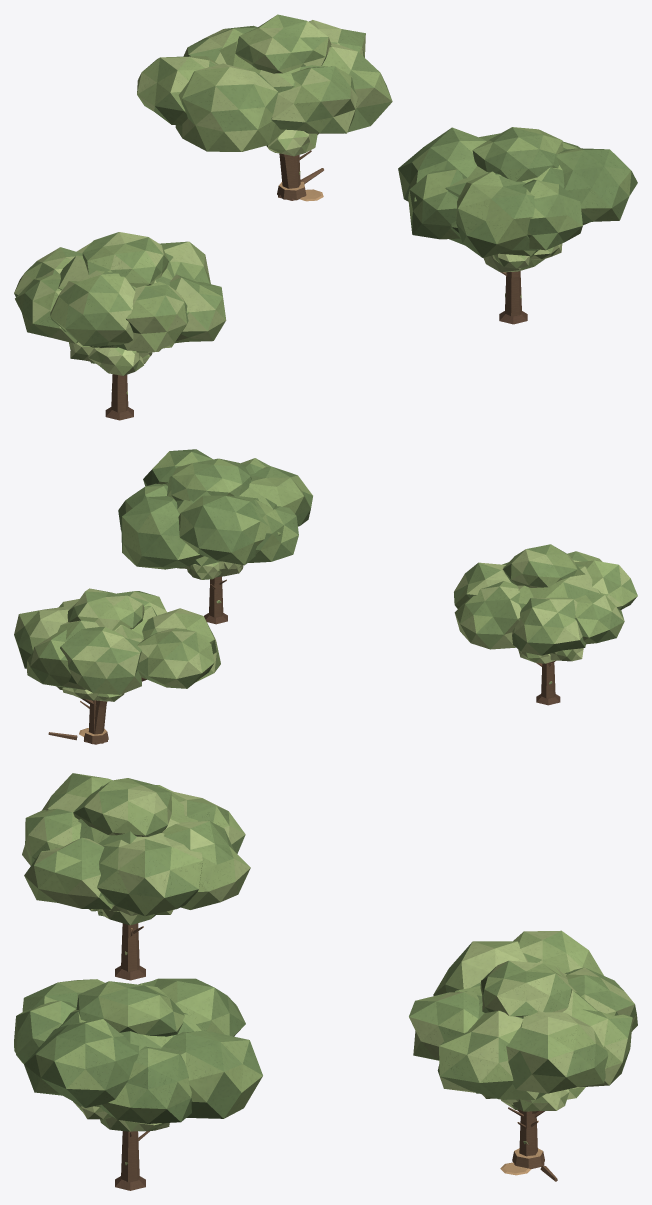
File: trees.glb
The picture shows the model from 3 angles, top to bottom: view 1: azimuth 30°, elevation 25°; view 2: azimuth 150°, elevation 25°; view 3: azimuth 270°, elevation 25°; orthographic projection. The views are drawn at different scales.
Visible parts, largest first — view 1: oak__yard_2026_full__seg5, oak__garden_2026_full__seg5, oak__square_2026_full__seg5, oak__yard_2026_full__seg6, oak__garden_2026_full__seg7, oak__yard_2026_full__seg8, oak__garden_2026_full__seg8, oak__square_2026_full__seg6, oak__square_2026_full__seg8, oak__yard_2026_full__seg4, oak__garden_2026_full__seg6, oak__garden_2026_full__seg4 (+16 smaller); view 2: oak__garden_2026_full__seg3, oak__yard_2026_full__seg3, oak__garden_2026_full__seg2, oak__yard_2026_full__seg4, oak__square_2026_full__seg3, oak__square_2026_full__seg2, oak__garden_2026_full__seg8, oak__square_2026_full__seg8, oak__yard_2026_full__seg8, oak__garden_2026_full__seg5, oak__garden_2026_full__seg4, oak__square_2026_full__seg4 (+15 smaller); view 3: oak__garden_2026_full__seg7, oak__square_2026_full__seg1, oak__yard_2026_full__seg1, oak__garden_2026_full__seg2, oak__yard_2026_full__seg7, oak__garden_2026_full__seg1, oak__garden_2026_full__seg8, oak__square_2026_full__seg8, oak__square_2026_full__seg7, oak__yard_2026_full__seg8, oak__square_2026_full__seg2, oak__yard_2026_full__seg6 (+18 smaller).
Part boxes in pixels (x1=…): oak__yard_2026_full__seg5: x1=175, y1=63, x2=285, y2=151; oak__garden_2026_full__seg5: x1=456, y1=171, x2=539, y2=257; oak__square_2026_full__seg5: x1=50, y1=275, x2=135, y2=345; oak__yard_2026_full__seg6: x1=271, y1=66, x2=357, y2=133; oak__garden_2026_full__seg7: x1=556, y1=148, x2=637, y2=223; oak__yard_2026_full__seg8: x1=235, y1=14, x2=331, y2=73; oak__garden_2026_full__seg8: x1=472, y1=127, x2=563, y2=181; oak__square_2026_full__seg6: x1=113, y1=281, x2=188, y2=351; oak__square_2026_full__seg8: x1=82, y1=232, x2=168, y2=287; oak__yard_2026_full__seg4: x1=137, y1=56, x2=218, y2=125; oak__garden_2026_full__seg6: x1=522, y1=179, x2=582, y2=250; oak__garden_2026_full__seg4: x1=408, y1=169, x2=462, y2=239; oak__garden_2026_full__seg3: x1=178, y1=495, x2=280, y2=565; oak__yard_2026_full__seg3: x1=60, y1=627, x2=142, y2=694; oak__garden_2026_full__seg2: x1=121, y1=496, x2=203, y2=569; oak__yard_2026_full__seg4: x1=137, y1=628, x2=214, y2=688; oak__square_2026_full__seg3: x1=512, y1=597, x2=585, y2=655; oak__square_2026_full__seg2: x1=454, y1=581, x2=521, y2=649; oak__garden_2026_full__seg8: x1=171, y1=458, x2=251, y2=501; oak__square_2026_full__seg8: x1=503, y1=544, x2=585, y2=587; oak__yard_2026_full__seg8: x1=67, y1=588, x2=144, y2=630; oak__garden_2026_full__seg5: x1=249, y1=466, x2=312, y2=526; oak__garden_2026_full__seg4: x1=248, y1=499, x2=298, y2=562; oak__square_2026_full__seg4: x1=574, y1=593, x2=624, y2=644; oak__garden_2026_full__seg7: x1=24, y1=1019, x2=138, y2=1107; oak__square_2026_full__seg1: x1=97, y1=833, x2=202, y2=915; oak__yard_2026_full__seg1: x1=506, y1=1011, x2=608, y2=1093; oak__garden_2026_full__seg2: x1=161, y1=1030, x2=262, y2=1118; oak__yard_2026_full__seg7: x1=437, y1=1010, x2=546, y2=1099; oak__garden_2026_full__seg1: x1=100, y1=1046, x2=191, y2=1123; oak__garden_2026_full__seg8: x1=76, y1=981, x2=184, y2=1036; oak__square_2026_full__seg8: x1=73, y1=778, x2=171, y2=836; oak__square_2026_full__seg7: x1=24, y1=837, x2=114, y2=909; oak__yard_2026_full__seg8: x1=480, y1=960, x2=571, y2=1017; oak__square_2026_full__seg2: x1=162, y1=821, x2=250, y2=909; oak__yard_2026_full__seg6: x1=409, y1=991, x2=479, y2=1060.
Bounding box in the file's own units: 14.78 × 4.4 × 12.53.
Materials: 4 (4 with a texture image).
